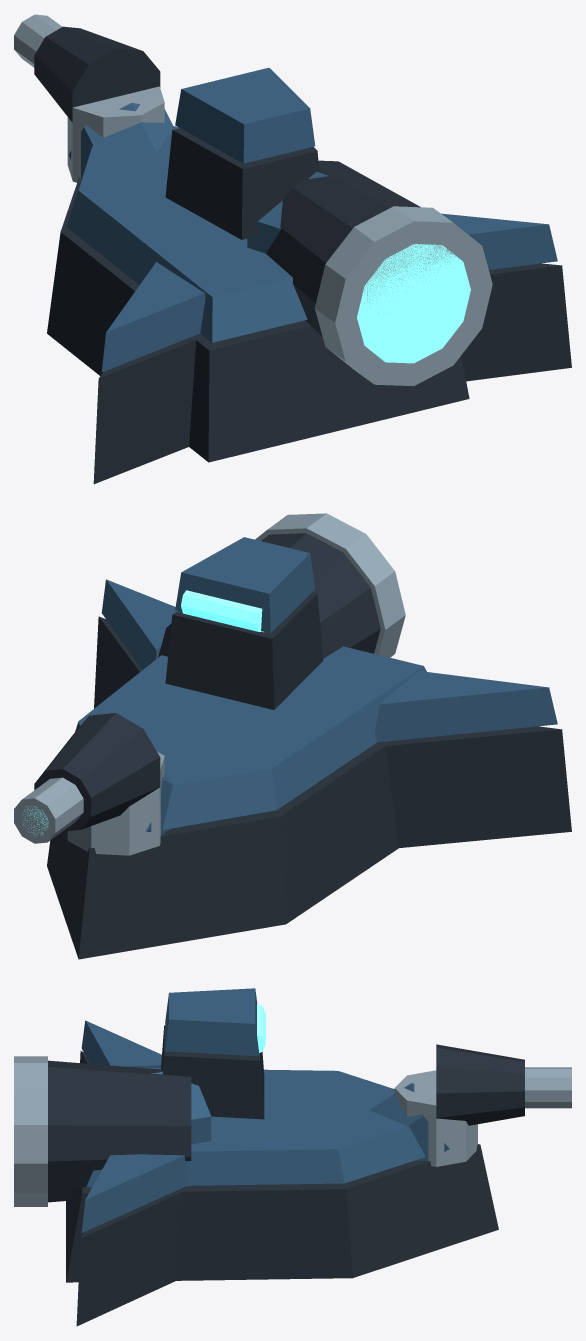
The model's file is c4_miniasteroid.glb.
3 renders of one model, top to bottom at view 1: azimuth 30°, elevation 25°; view 2: azimuth 150°, elevation 25°; view 3: azimuth 270°, elevation 25°, orthographic. The views are drawn at different scales.
Visible parts, largest first — view 1: miniasteroid / Chassis, miniasteroid / Armor, miniasteroid / Titanium, miniasteroid / Energy; view 2: miniasteroid / Chassis, miniasteroid / Armor, miniasteroid / Titanium, miniasteroid / Energy; view 3: miniasteroid / Chassis, miniasteroid / Armor, miniasteroid / Titanium.
Boxes of the visible parts, bbox=[...] form: miniasteroid / Chassis: bbox=[34, 26, 571, 484]; miniasteroid / Armor: bbox=[66, 67, 557, 372]; miniasteroid / Titanium: bbox=[14, 14, 492, 386]; miniasteroid / Energy: bbox=[357, 244, 470, 363]; miniasteroid / Chassis: bbox=[34, 533, 571, 959]; miniasteroid / Armor: bbox=[75, 537, 557, 835]; miniasteroid / Titanium: bbox=[14, 513, 405, 855]; miniasteroid / Energy: bbox=[23, 590, 263, 834]; miniasteroid / Chassis: bbox=[48, 1025, 524, 1326]; miniasteroid / Armor: bbox=[81, 988, 449, 1232]; miniasteroid / Titanium: bbox=[14, 1056, 571, 1206].
Size of the model in its own units: 0.88 by 0.473 by 1.07.
